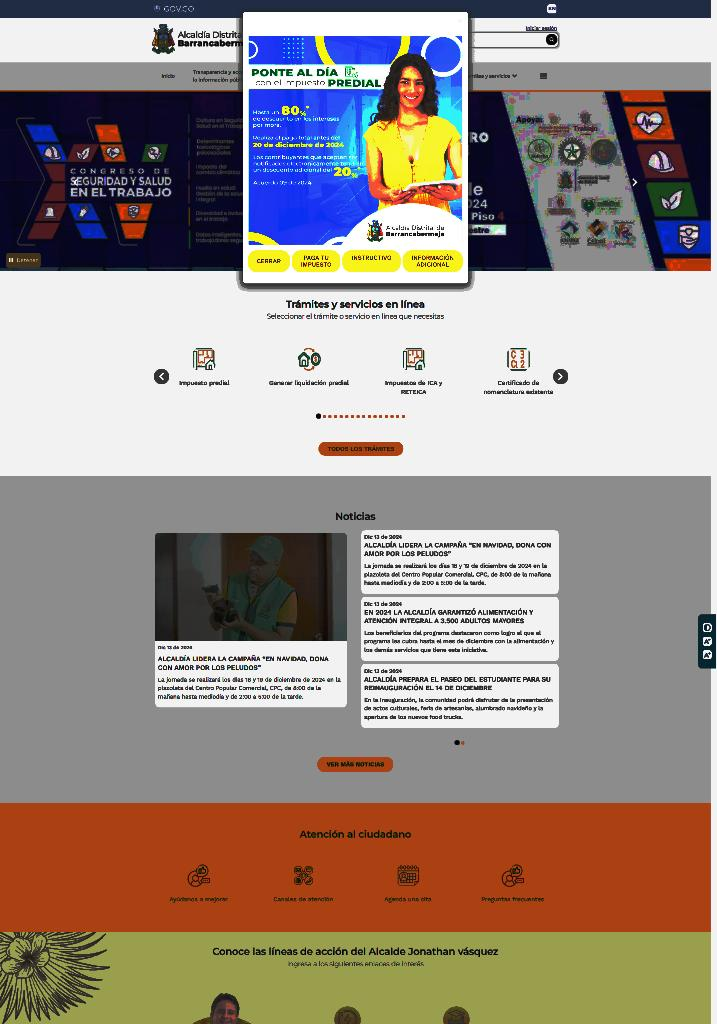barra accesibilidad: (699, 614, 717, 668)
barra govco: (152, 1, 558, 17)
btn atencion ciudadano: (298, 826, 414, 840)
btn buscador: (471, 33, 559, 47)
btn idiomas: (548, 4, 558, 14)
btn inicio: (160, 72, 176, 80)
btn noticias: (334, 512, 378, 524)
btn registro: (526, 26, 558, 32)
btn tramites: (284, 297, 426, 311), (470, 72, 518, 80)
btn transpariencia: (192, 68, 243, 84)
logogovco: (154, 4, 194, 14)
